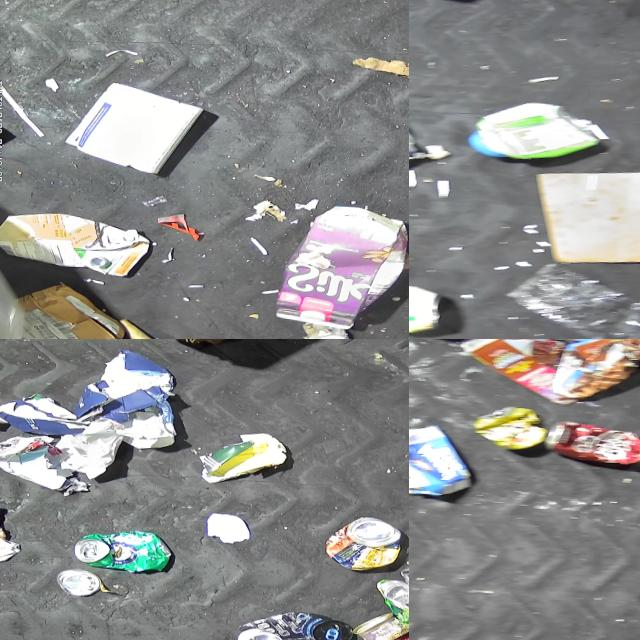can: (543, 415, 640, 462), (72, 526, 170, 572), (324, 511, 401, 568), (236, 605, 352, 640), (471, 402, 547, 449), (352, 605, 409, 640), (409, 279, 443, 331), (375, 573, 409, 624), (56, 567, 100, 596)
non_white_jug: (275, 200, 409, 327), (0, 209, 147, 277)
